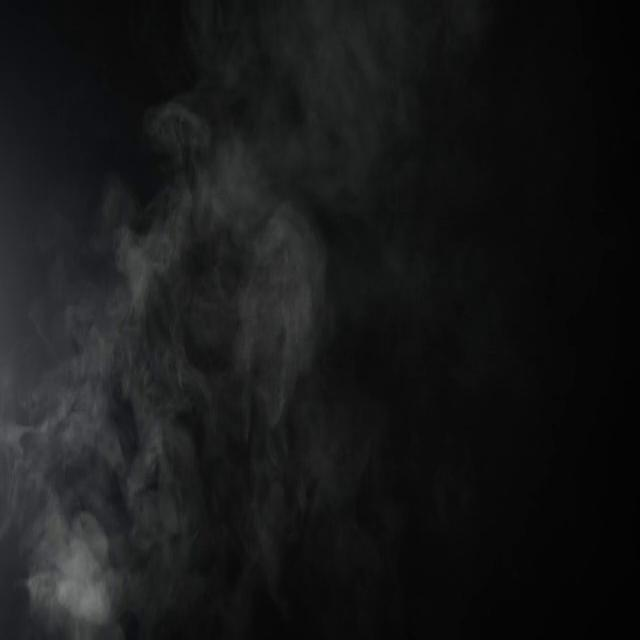smoke: (33, 524, 123, 640), (255, 203, 325, 347), (198, 146, 264, 248), (276, 36, 334, 150), (69, 362, 126, 466), (286, 372, 345, 467), (12, 438, 74, 512)
